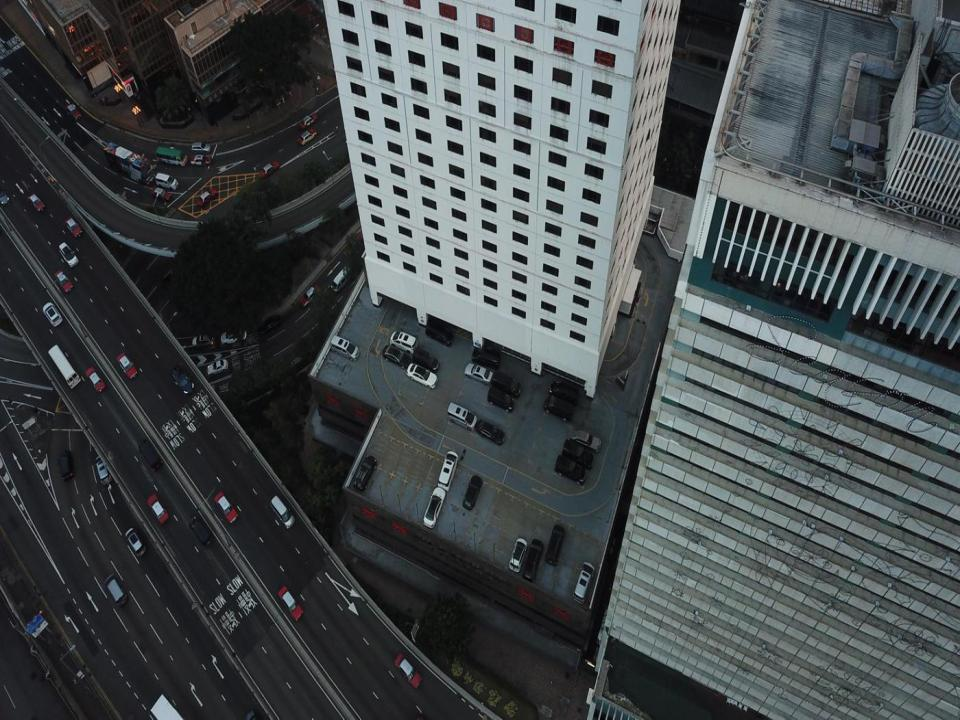bus: (104, 142, 155, 187), (47, 344, 81, 388), (156, 146, 188, 166)
car: (394, 652, 422, 688), (522, 538, 544, 583), (423, 487, 446, 529), (572, 561, 594, 603), (353, 454, 377, 491), (278, 586, 303, 621), (138, 438, 163, 472), (545, 524, 565, 566), (568, 427, 601, 452), (438, 450, 458, 490), (104, 573, 128, 606), (476, 419, 506, 445), (406, 363, 438, 387), (190, 516, 213, 549), (215, 492, 238, 524), (462, 475, 482, 510), (382, 346, 411, 369), (147, 494, 169, 524), (508, 537, 526, 573), (172, 366, 194, 395), (464, 362, 493, 384), (85, 365, 106, 393), (124, 528, 145, 556), (116, 353, 138, 379), (95, 454, 112, 486), (59, 242, 79, 269), (42, 302, 62, 326), (58, 450, 74, 480), (259, 315, 281, 336), (300, 284, 319, 308), (55, 270, 73, 294), (259, 160, 281, 179), (221, 328, 247, 344), (64, 216, 81, 238), (345, 233, 362, 255), (197, 188, 216, 207), (27, 193, 45, 213), (207, 359, 228, 376), (299, 112, 318, 130), (297, 128, 317, 145), (192, 334, 214, 348), (151, 186, 171, 201), (64, 103, 81, 120), (192, 142, 210, 154), (190, 156, 211, 166), (0, 188, 10, 206)
van: (562, 439, 594, 470), (554, 455, 586, 485), (447, 402, 477, 433), (269, 495, 295, 528), (492, 371, 521, 397), (330, 335, 360, 360), (544, 396, 573, 421), (487, 387, 514, 412), (425, 322, 453, 346), (390, 330, 418, 354), (548, 382, 578, 404), (331, 265, 353, 293), (471, 348, 501, 368), (413, 349, 439, 371), (154, 172, 178, 190)
